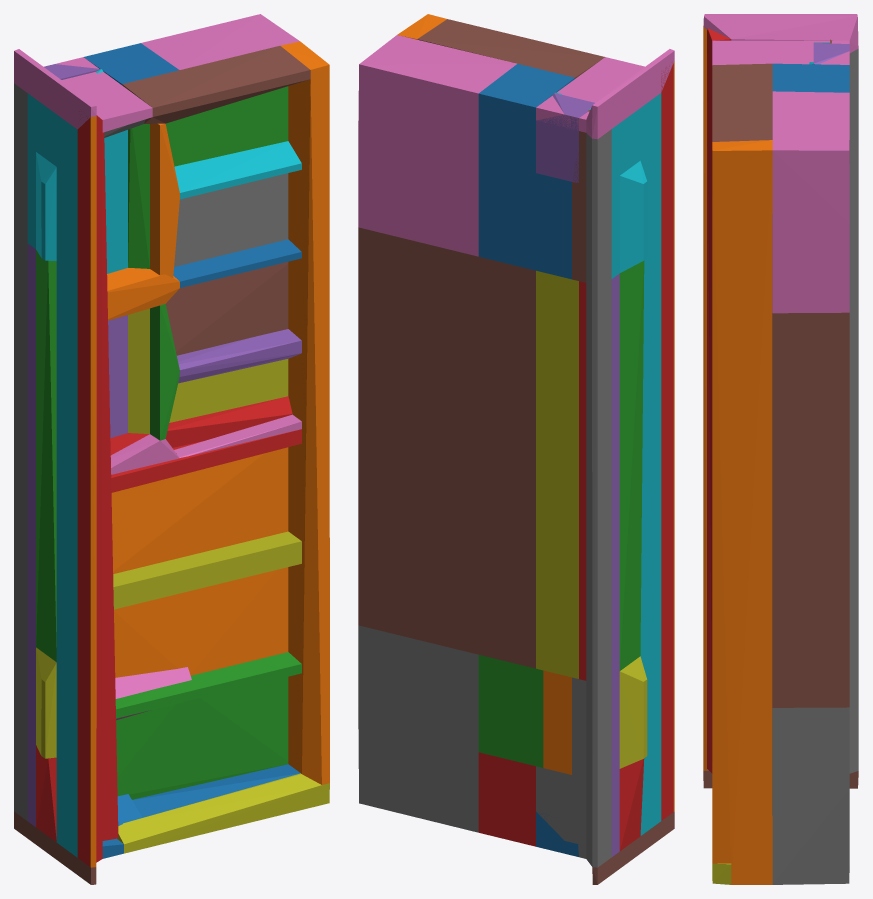
The model's file is Drawer_05_cvx.obj.
3 renders of one model, left to right at view 1: azimuth 30°, elevation 25°; view 2: azimuth 150°, elevation 25°; view 3: azimuth 270°, elevation 25°, orthographic.
Parts seen in each view (by area): view 1: scenes/apartment_0000_coacd/output/Unknown/Kitchen_Oven/Drawer_0; view 2: scenes/apartment_0000_coacd/output/Unknown/Kitchen_Oven/Drawer_0; view 3: scenes/apartment_0000_coacd/output/Unknown/Kitchen_Oven/Drawer_0.
Part boxes in pixels (left/top/right/bottom): scenes/apartment_0000_coacd/output/Unknown/Kitchen_Oven/Drawer_0: left=14, top=14, right=329, bottom=884; scenes/apartment_0000_coacd/output/Unknown/Kitchen_Oven/Drawer_0: left=358, top=14, right=674, bottom=884; scenes/apartment_0000_coacd/output/Unknown/Kitchen_Oven/Drawer_0: left=703, top=14, right=858, bottom=884.
Size of the model in its own units: 0.5654 by 1.66 by 0.303.
